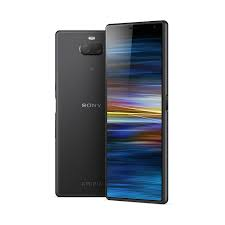sony: (52, 18, 170, 202)
